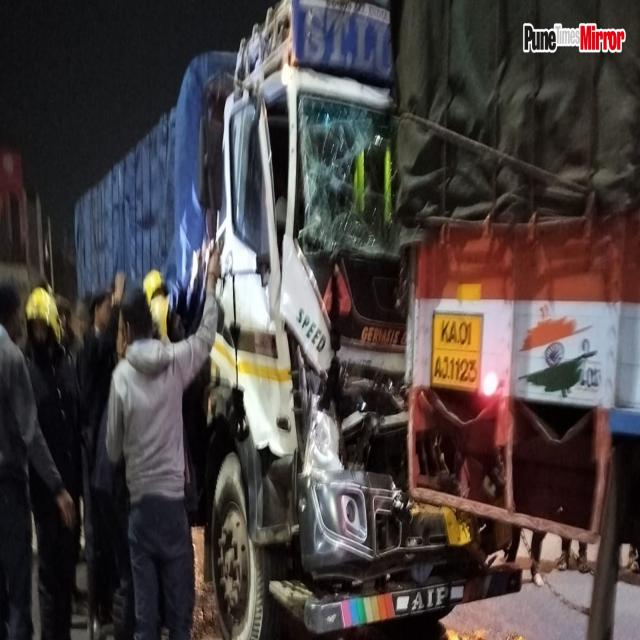accident: (76, 0, 520, 638)
